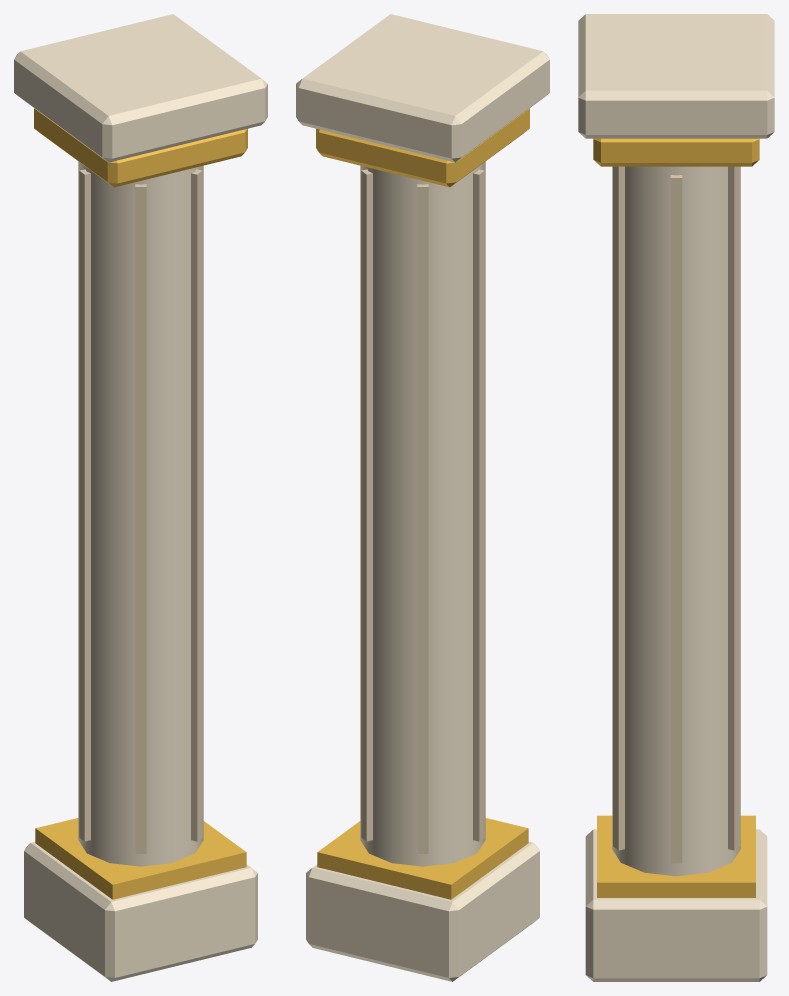
Rendered from PR_Tier_MermerSutun.fbx.
3 renders of one model, left to right at view 1: azimuth 30°, elevation 25°; view 2: azimuth 150°, elevation 25°; view 3: azimuth 270°, elevation 25°, orthographic. The views are drawn at different scales.
Visible parts, largest first — view 1: PR_Tier_MermerSutun; view 2: PR_Tier_MermerSutun; view 3: PR_Tier_MermerSutun.
Boxes of the visible parts, <box> form: PR_Tier_MermerSutun: <box>14,14,267,981</box>; PR_Tier_MermerSutun: <box>296,14,549,981</box>; PR_Tier_MermerSutun: <box>578,14,774,981</box>.
Bounding box in the file's own units: 0.52 × 2.61 × 0.52.
